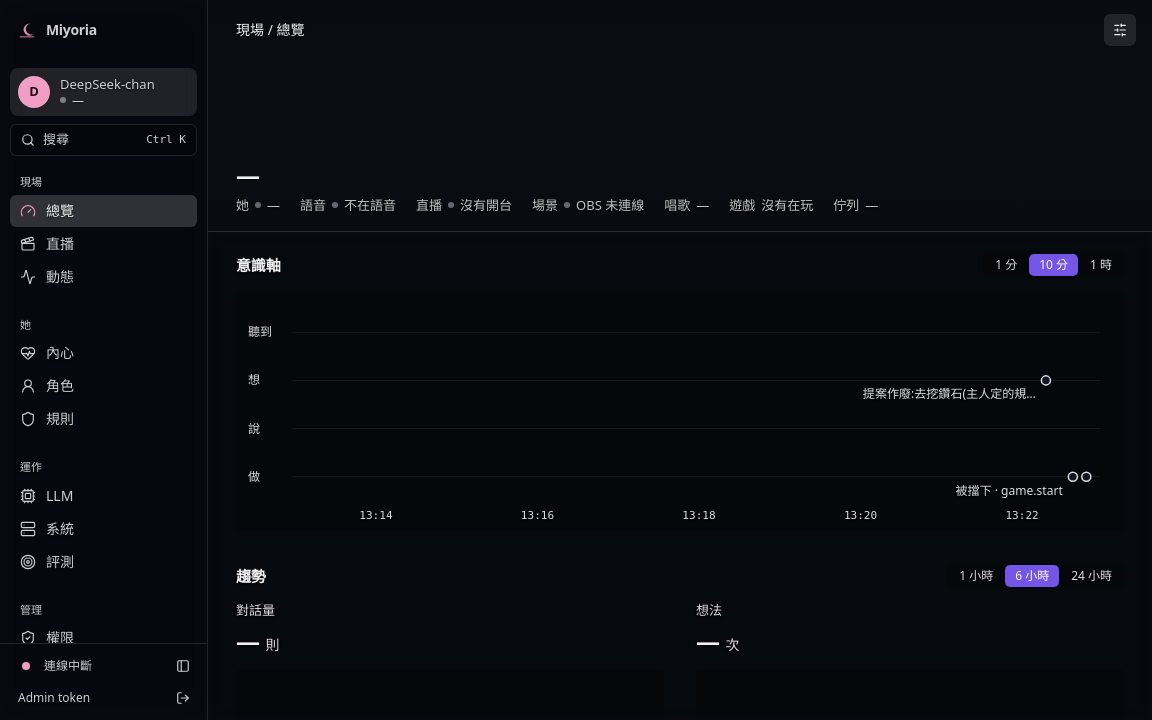
規則 › is in the sidebar's 她 group and in the command palette, and sits in 總覽's rail
Click the button with aria-label "搜尋與跳轉" at {"x": 104, "y": 140}, box [10, 124, 197, 156]
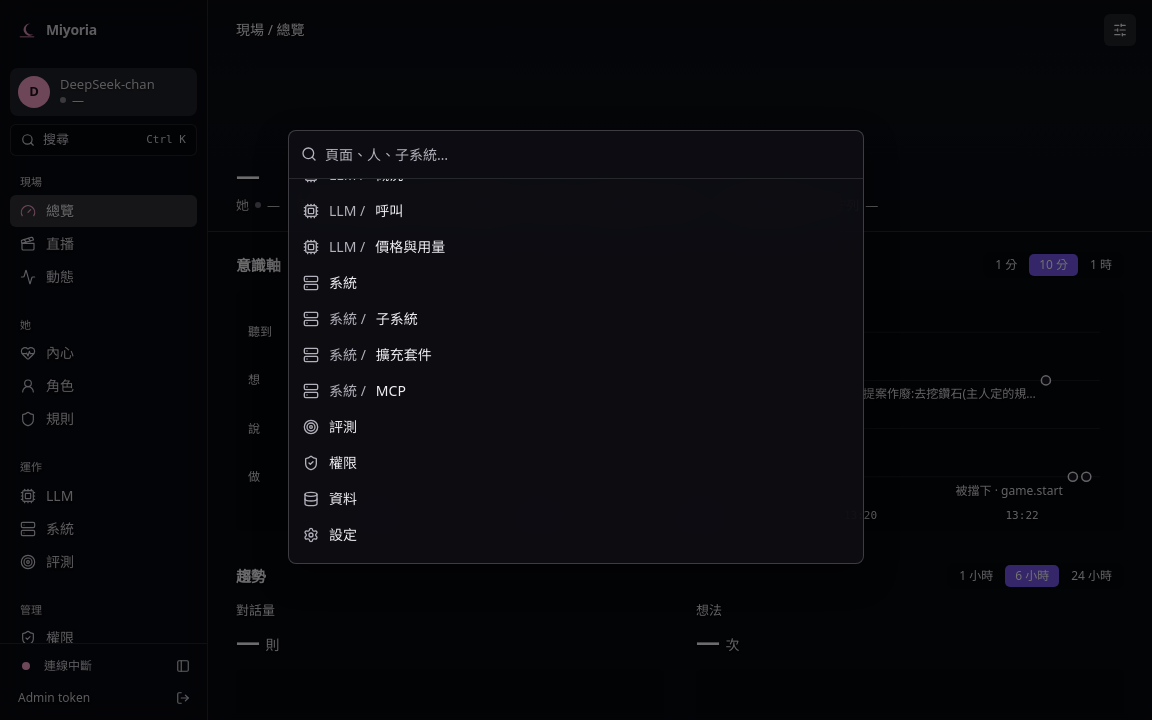
Check: the option "評測" is shown, box [303, 417, 357, 436]
